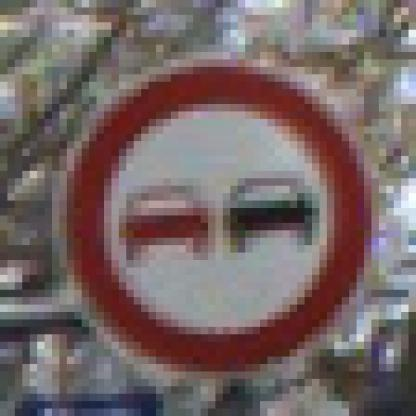No Overtaking: (46, 46, 373, 373)
